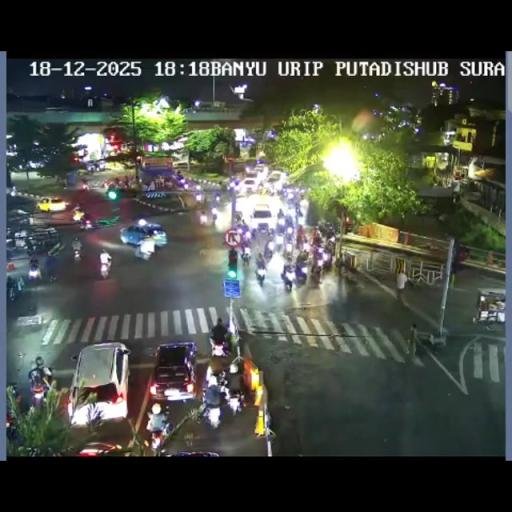Car: (66, 342, 130, 426), (148, 342, 198, 402), (120, 221, 167, 247), (74, 441, 126, 455), (250, 202, 273, 228), (38, 197, 66, 212), (238, 176, 260, 194), (266, 170, 286, 188), (86, 159, 106, 172), (172, 158, 190, 170), (252, 164, 267, 178)
Motorcycle: (200, 390, 226, 428), (28, 369, 52, 408), (146, 420, 170, 453), (4, 409, 23, 446), (210, 318, 230, 352), (207, 350, 231, 376), (316, 218, 338, 238), (134, 240, 154, 261), (44, 252, 58, 281), (395, 269, 407, 302), (226, 392, 242, 416), (28, 262, 42, 284), (294, 263, 307, 286), (310, 262, 323, 285), (6, 382, 20, 403), (218, 376, 230, 399), (99, 257, 112, 278), (282, 270, 294, 292), (6, 279, 17, 302), (337, 254, 348, 276), (255, 265, 266, 286), (264, 410, 274, 433), (78, 216, 94, 230), (284, 193, 298, 209), (282, 244, 294, 262), (272, 235, 284, 253), (313, 246, 325, 264), (263, 241, 274, 260), (25, 237, 36, 256), (295, 248, 308, 264), (325, 238, 336, 256), (322, 254, 332, 272), (296, 233, 306, 251), (242, 230, 252, 248), (211, 190, 221, 208), (276, 222, 287, 238), (240, 248, 250, 265), (72, 243, 82, 260), (284, 214, 294, 231), (16, 275, 26, 292), (198, 211, 209, 226), (312, 230, 322, 246), (236, 226, 245, 241), (71, 203, 82, 215), (56, 175, 66, 188), (233, 210, 242, 224), (176, 175, 186, 187), (294, 204, 302, 218), (220, 180, 228, 194), (277, 209, 285, 222), (211, 210, 218, 224), (228, 181, 236, 193), (266, 186, 276, 195), (123, 176, 130, 188), (268, 227, 274, 240), (195, 192, 202, 202), (261, 186, 268, 196), (104, 180, 110, 191), (114, 178, 120, 188), (82, 182, 88, 190)
